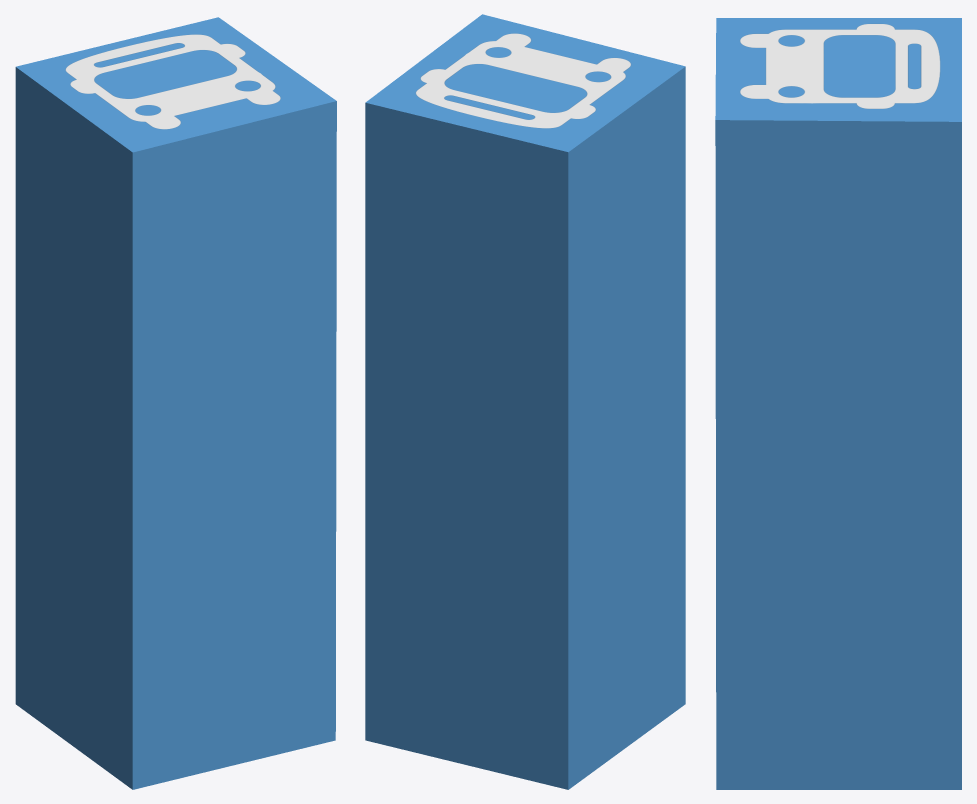
File: BusStopNew.glb
3 views of the same model, side by side, from view 1: azimuth 30°, elevation 25°; view 2: azimuth 150°, elevation 25°; view 3: azimuth 270°, elevation 25° (orthographic). The views are drawn at different scales.
Visible parts, largest first — view 1: Cube, busIconWhite; view 2: Cube, busIconWhite; view 3: Cube, busIconWhite.
Part boxes in pixels (x1,y1,x2,y2): Cube: [15, 17, 336, 789]; busIconWhite: [65, 34, 280, 129]; Cube: [365, 14, 685, 789]; busIconWhite: [416, 33, 630, 128]; Cube: [715, 18, 961, 789]; busIconWhite: [740, 24, 940, 108].
Size of the model in its own units: 2.02 by 6.03 by 2.01.
2 materials, 1 textured.
